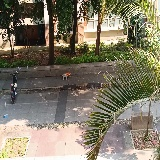fire: (65, 72, 69, 77)
